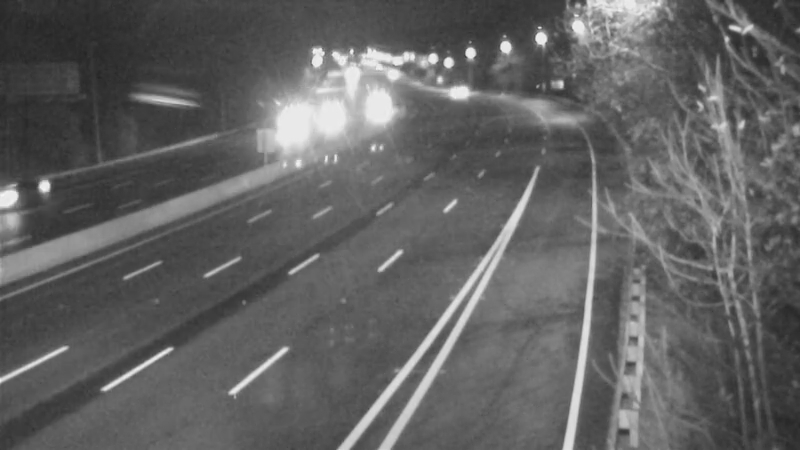vehicle: (1, 152, 74, 232), (427, 61, 477, 111), (273, 106, 323, 156), (303, 92, 353, 142), (346, 84, 396, 134)
